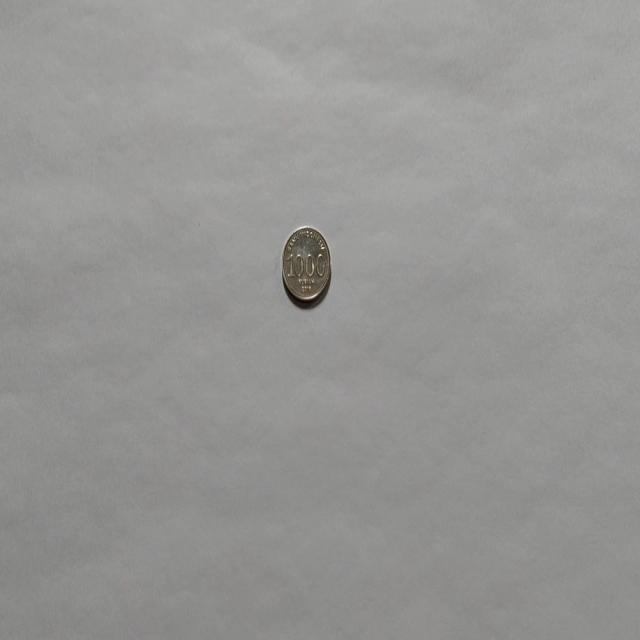seribu rupiah koin: (280, 224, 332, 305)
